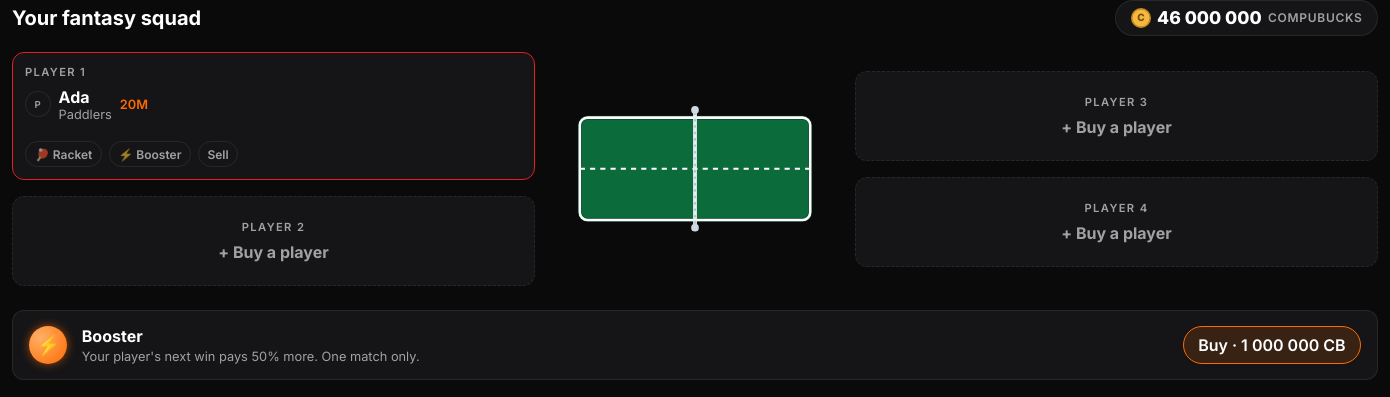
FantasyTeam › shows the Golden Racket icon immediately, before the server responds
This screenshot has width=1390, height=397.
Click the button "🏓 Racket" at (64, 154), box [25,141,102,167]
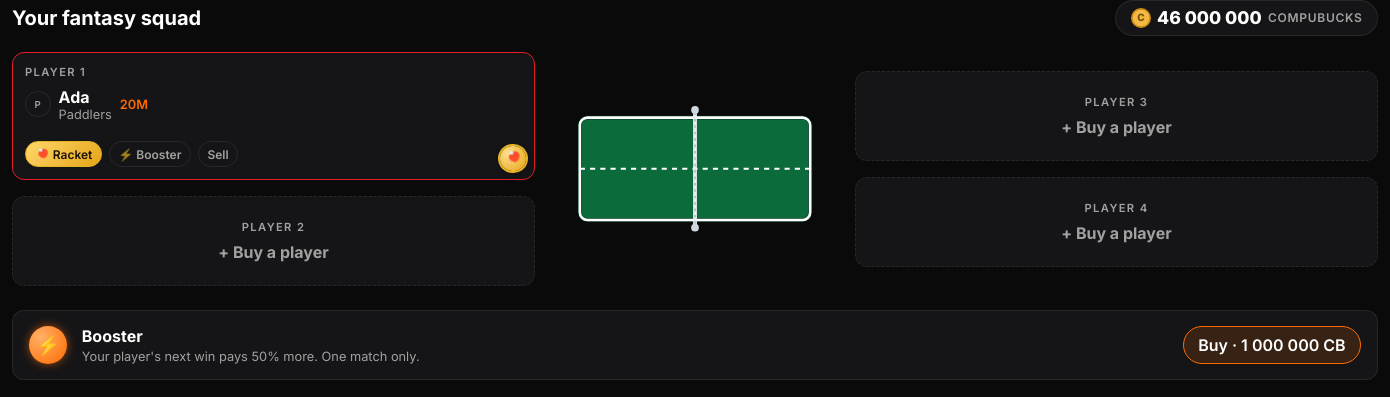
expect the text named "golden racket" is shown: met, box [500,146,526,171]
